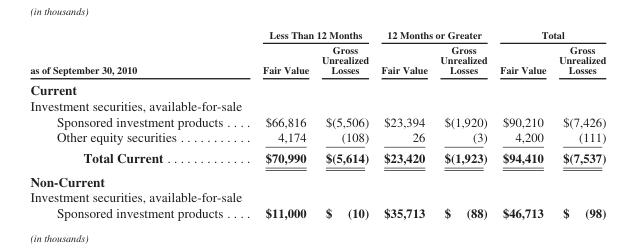table: (29, 28, 605, 220)
table column: (29, 28, 242, 220), (242, 28, 314, 220), (314, 28, 374, 220), (433, 28, 493, 220), (374, 28, 433, 220), (493, 28, 551, 220), (551, 28, 605, 220)
table column header: (29, 28, 605, 78)
table projected row header: (29, 169, 605, 189), (29, 78, 605, 97), (29, 97, 605, 113), (29, 189, 605, 204)
table row: (29, 41, 605, 78), (29, 147, 605, 169), (29, 169, 605, 189), (29, 78, 605, 97), (29, 129, 605, 147), (29, 97, 605, 113), (29, 113, 605, 129), (29, 204, 605, 220), (29, 189, 605, 204), (29, 28, 605, 41)
table spanning cell: (29, 28, 242, 78), (242, 28, 374, 41), (374, 28, 493, 41), (493, 28, 605, 41)
